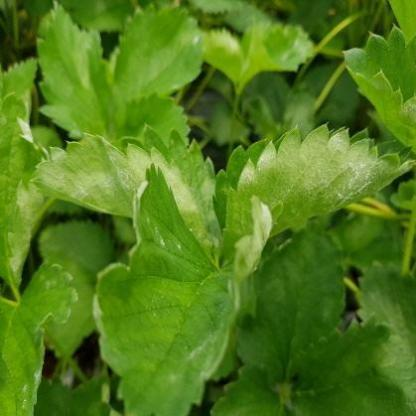Strawberry_Powdery_Mildew_Leaf: (90, 162, 272, 415), (212, 122, 414, 266), (30, 122, 221, 264), (0, 260, 79, 415), (235, 22, 312, 96)
